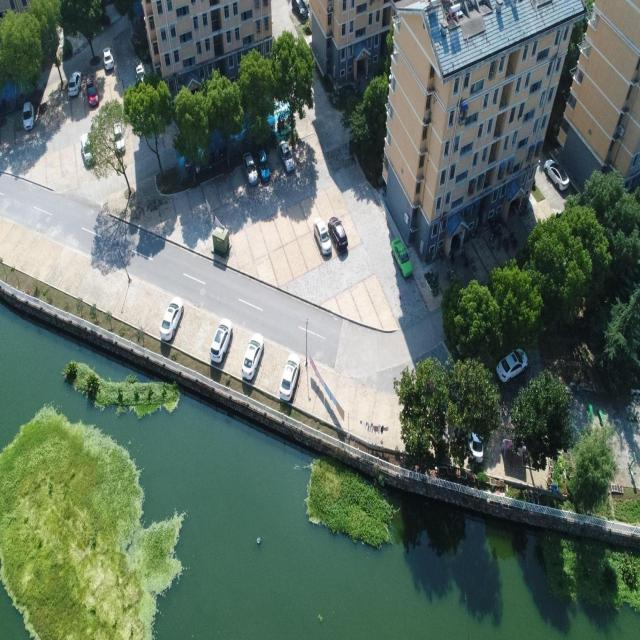p3rson: (450, 251, 456, 265), (461, 246, 467, 258), (464, 256, 469, 266)
